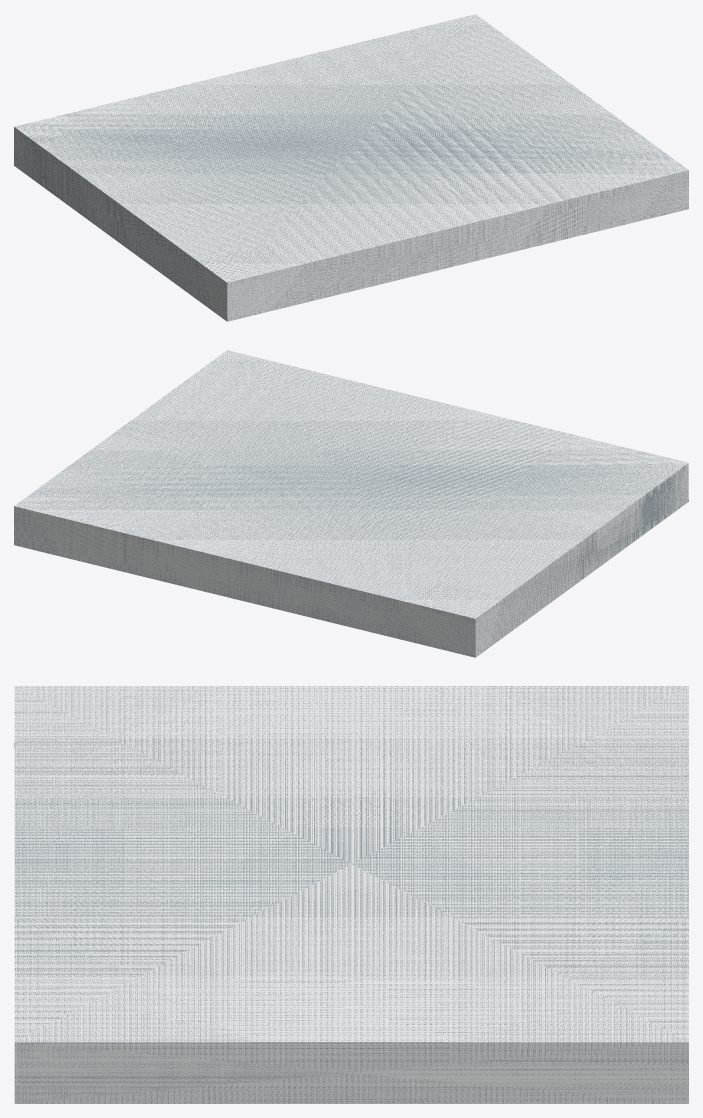
The model's file is waterblock.dae.
3 views of the same model, one above another, from view 1: azimuth 30°, elevation 25°; view 2: azimuth 150°, elevation 25°; view 3: azimuth 270°, elevation 25° (orthographic). The views are drawn at different scales.
Visible parts, largest first — view 1: SketchUp; view 2: SketchUp; view 3: SketchUp.
Part boxes in pixels (<box>): SketchUp: <box>14,14,688,321</box>; SketchUp: <box>14,350,688,657</box>; SketchUp: <box>14,686,688,1103</box>.
Size of the model in its own units: 9844 by 7882 by 794.
